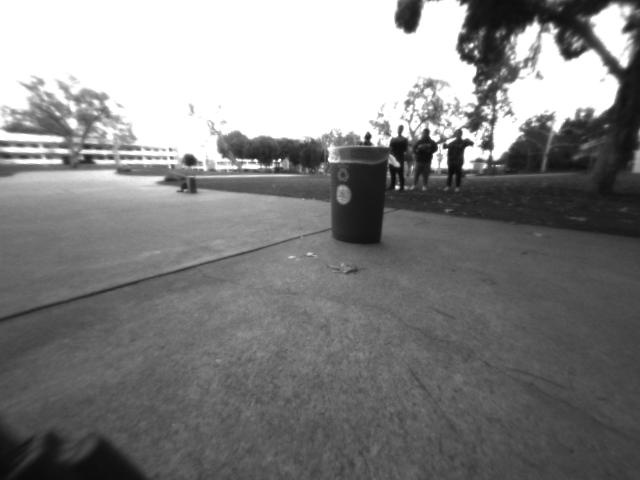trashcan_open: (327, 143, 385, 248)
